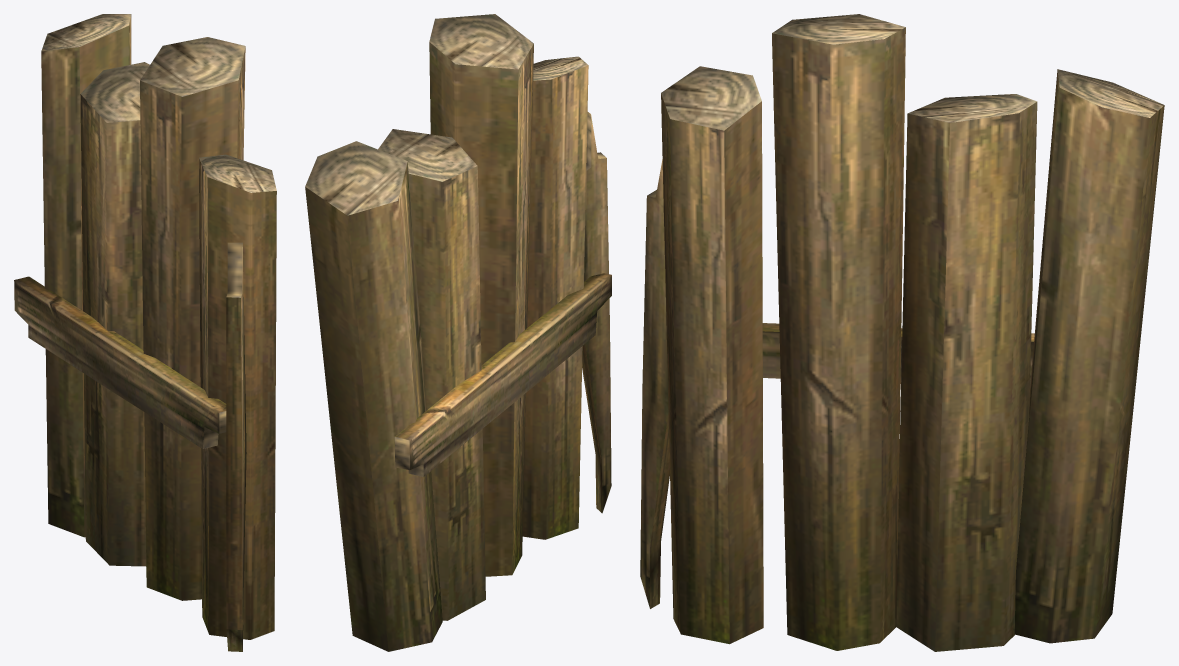
Rendered from Hangzhou_wj_008_1.FBX.
3 views of the same model, side by side, from view 1: azimuth 30°, elevation 25°; view 2: azimuth 150°, elevation 25°; view 3: azimuth 270°, elevation 25° (orthographic). The views are drawn at different scales.
Parts seen in each view (by area): view 1: DrawCall_0648; view 2: DrawCall_0648; view 3: DrawCall_0648.
Boxes of the visible parts, x1=… form: DrawCall_0648: x1=14, y1=14, x2=276, y2=651; DrawCall_0648: x1=305, y1=14, x2=611, y2=651; DrawCall_0648: x1=640, y1=14, x2=1164, y2=651.
Bounding box in the file's own units: 22.88 × 110 × 85.79.
